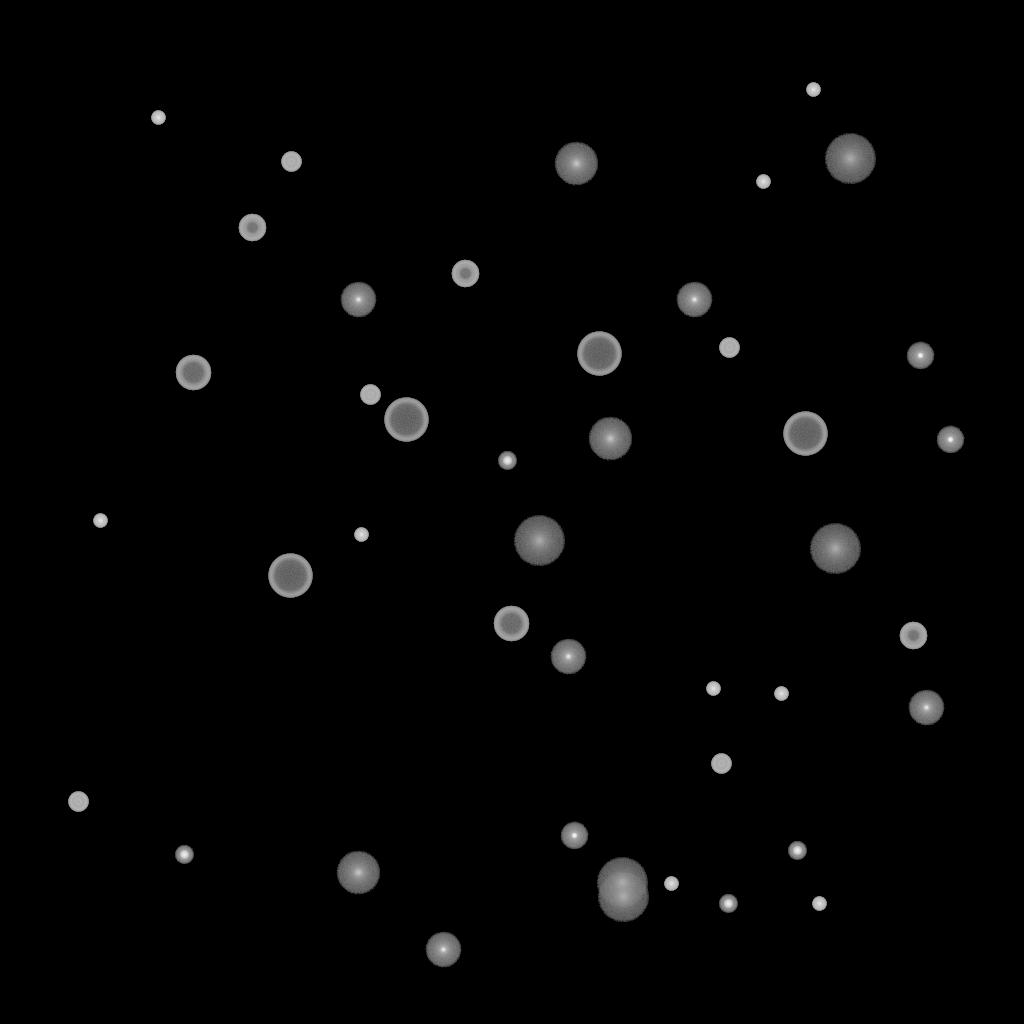depth:-10: (936, 426, 964, 454), (906, 342, 934, 370), (560, 822, 588, 850)
depth:-20: (719, 895, 737, 913), (175, 846, 193, 864), (788, 842, 806, 860), (498, 452, 516, 470)
depth:-30: (93, 514, 107, 528), (774, 687, 788, 701), (151, 111, 165, 125), (664, 877, 678, 891), (806, 83, 820, 97), (354, 528, 368, 542), (706, 682, 720, 696), (756, 175, 770, 189), (812, 897, 826, 911)
depth:-40: (711, 754, 731, 774), (719, 338, 739, 358), (68, 792, 88, 812), (360, 385, 380, 405), (281, 152, 301, 172)
depth:-50: (451, 260, 479, 288), (238, 214, 266, 242), (899, 622, 927, 650)
depth:-60: (493, 606, 529, 642), (175, 355, 211, 391)
depth:-70: (577, 332, 621, 376), (384, 398, 428, 442), (268, 554, 312, 598), (783, 412, 827, 456)
depth:0: (908, 690, 944, 726), (550, 639, 586, 675), (676, 282, 712, 318), (425, 932, 461, 968), (340, 282, 376, 318)
depth:10: (554, 142, 598, 186), (588, 417, 632, 461), (336, 851, 380, 895)
depth:20: (596, 858, 648, 908), (809, 524, 861, 574), (824, 134, 876, 184), (597, 872, 649, 922), (513, 516, 565, 566)
